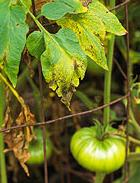Tomato Early blight leaf: (38, 27, 82, 108), (0, 0, 25, 86), (30, 0, 96, 17)
